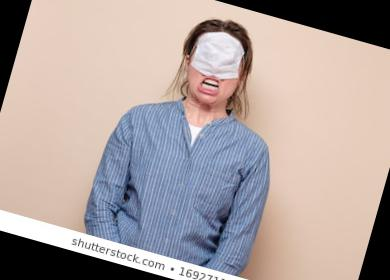mask_weared_incorrect: (183, 33, 246, 107)
